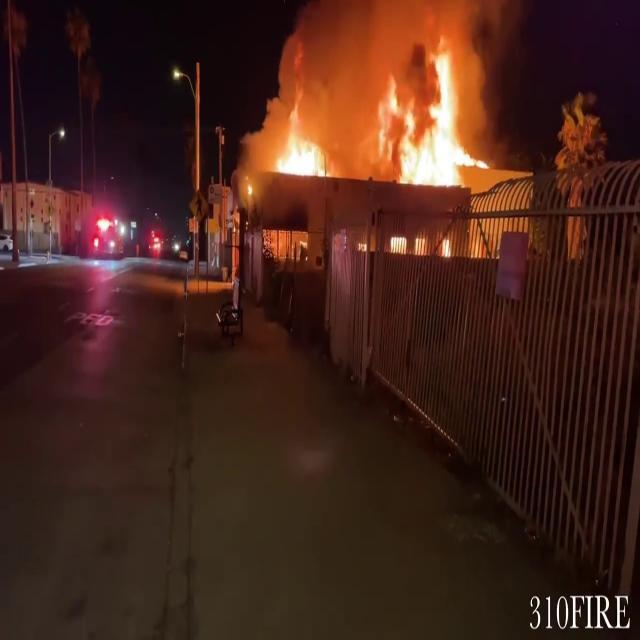Fire: (382, 34, 484, 188), (272, 100, 330, 184)
Smoke: (259, 0, 499, 146)
